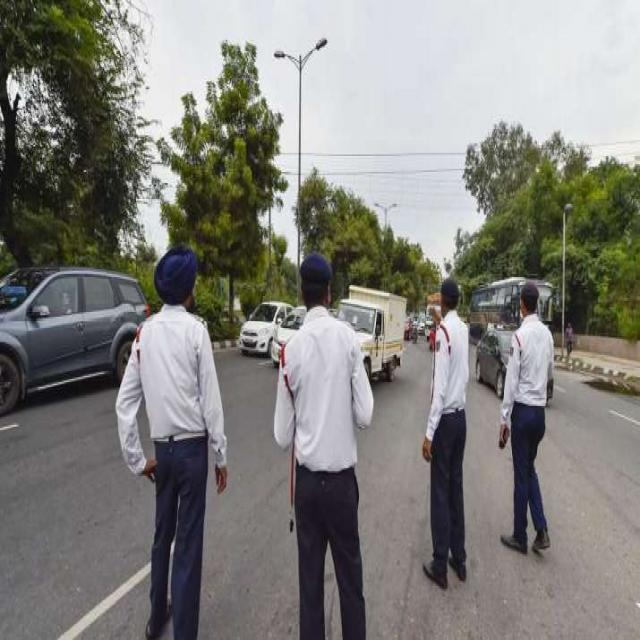No_Helmet: (284, 260, 342, 332), (435, 268, 472, 318)
